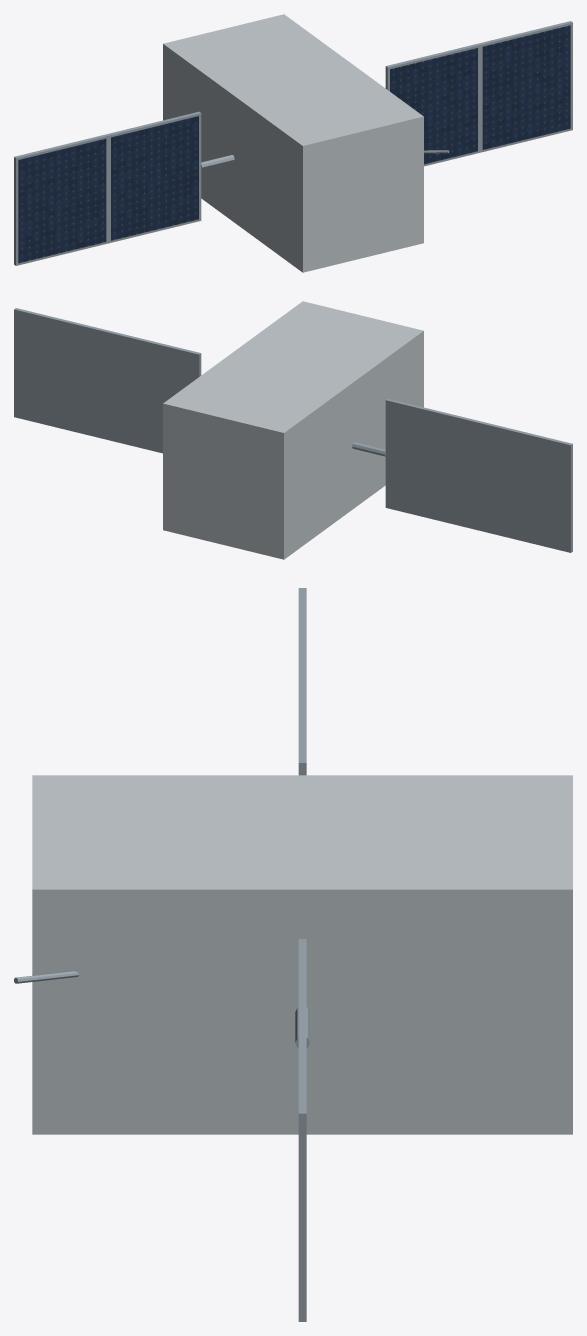
File: ref-mimir-68490.glb
The picture shows the model from 3 angles, top to bottom: view 1: azimuth 30°, elevation 25°; view 2: azimuth 150°, elevation 25°; view 3: azimuth 270°, elevation 25°; orthographic projection. The views are drawn at different scales.
Visible parts, largest first — view 1: Spacecraft body, Photovoltaic laminates (×4), Array frame (×4); view 2: Spacecraft body, Array frame (×4); view 3: Spacecraft body, Array frame (×2).
Boxes of the visible parts, bbox=[...] form: Spacecraft body: bbox=[163, 14, 423, 272]; Photovoltaic laminates (×4): bbox=[18, 25, 570, 263]; Array frame (×4): bbox=[14, 21, 572, 265]; Spacecraft body: bbox=[163, 301, 423, 559]; Array frame (×4): bbox=[14, 308, 572, 552]; Spacecraft body: bbox=[32, 775, 572, 1134]; Array frame (×2): bbox=[298, 675, 306, 1321].
Bounding box in the file's own units: 2.3 × 0.5 × 1.03.
3 materials, 1 textured.
